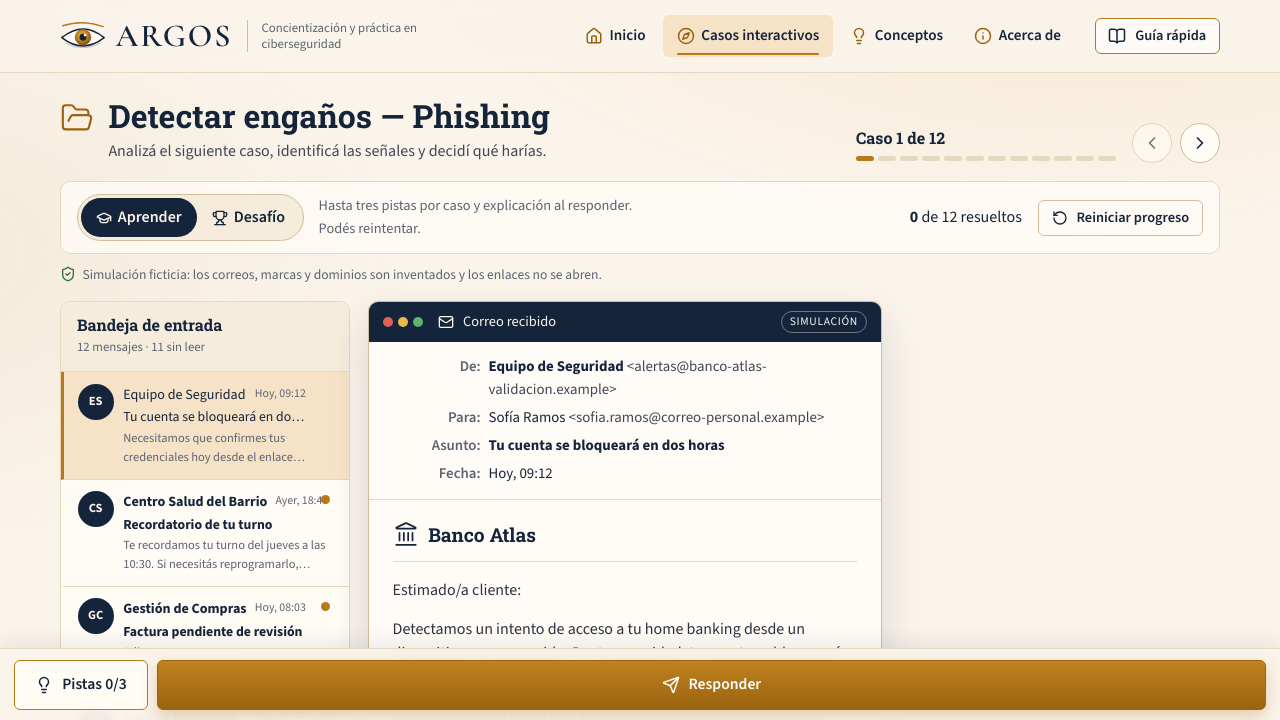
Scenario: simulador en móvil (panel inferior) › respuesta equivocada: devolución constructiva, compacta y con detalles desplegables
Expected: the heading "Detectar engaños — Phishing" is shown, [108,97,550,135]
Step 1. Click the button "Responder" → (711, 685), box [157,660,1266,710]
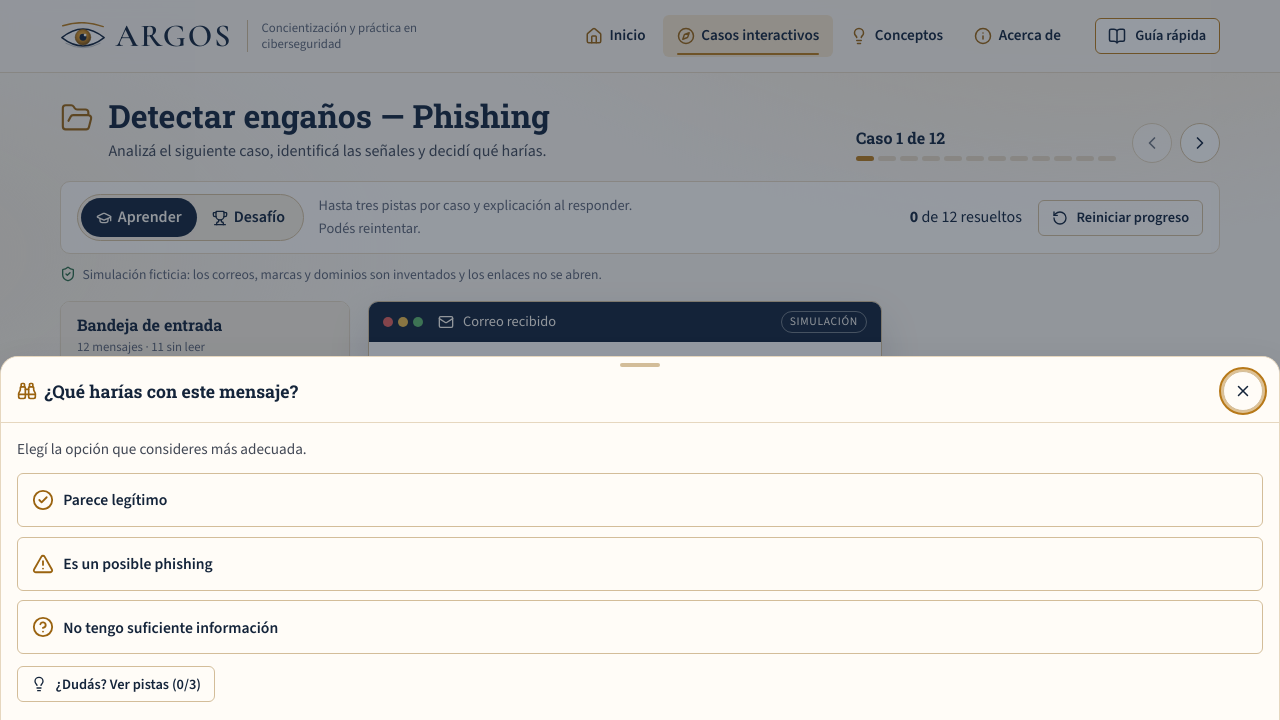
Step 2. Click the button "Parece legítimo" → (115, 500), box [17,473,1263,527]
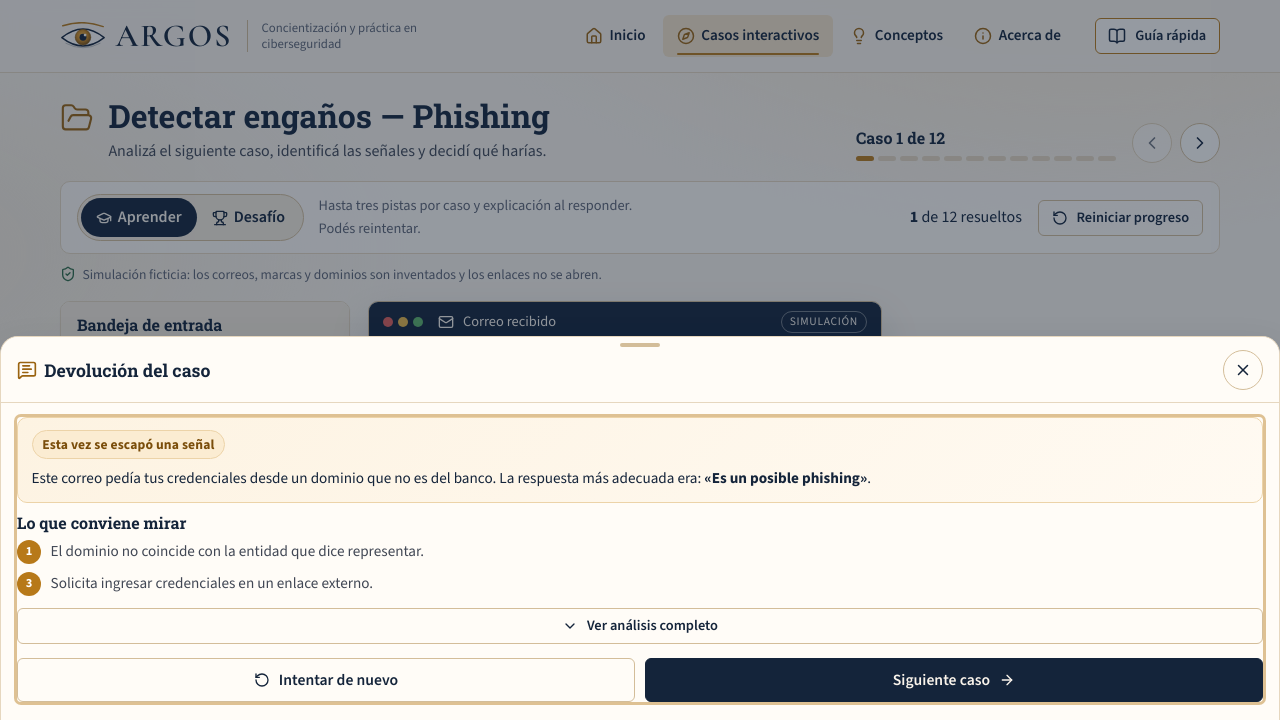
Expected: the text "Esta vez se escapó una señal" is shown, [32,430,225,459]
Expected: the heading "Lo que conviene mirar" is shown, [17,512,186,533]
Expected: the text "pedía tus credenciales desde un dominio que no es del banco" is shown, [32,468,496,488]
Step 3. Click the button "Ver análisis completo" → (640, 626), box [17,608,1263,644]
(page scrolled)
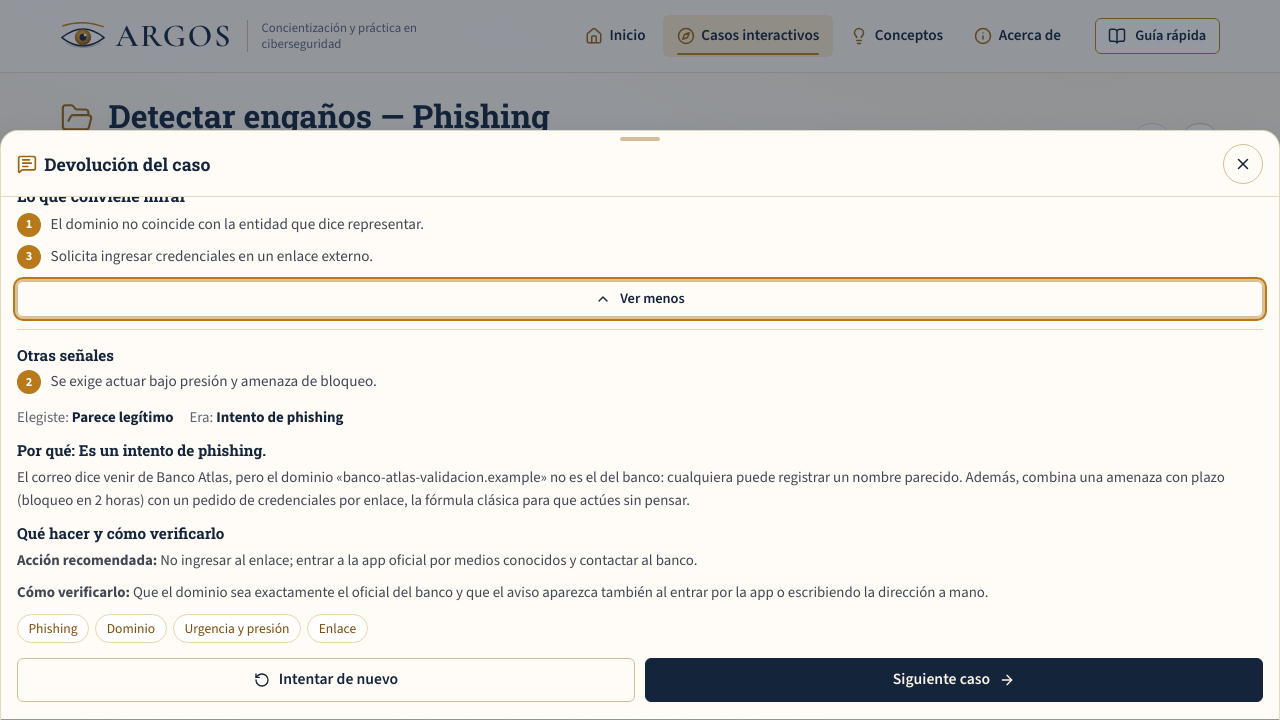
Expected: the button "Ver menos" is expanded, [17,281,1263,317]
Expected: the text "Se exige actuar bajo presión y amenaza de bloqueo." is shown, [51,370,377,394]
Expected: the text "No ingresar al enlace" is shown, [160,550,697,570]
Step 4. Click the button "Intentar de nuevo" → (326, 680), box [17,658,635,702]
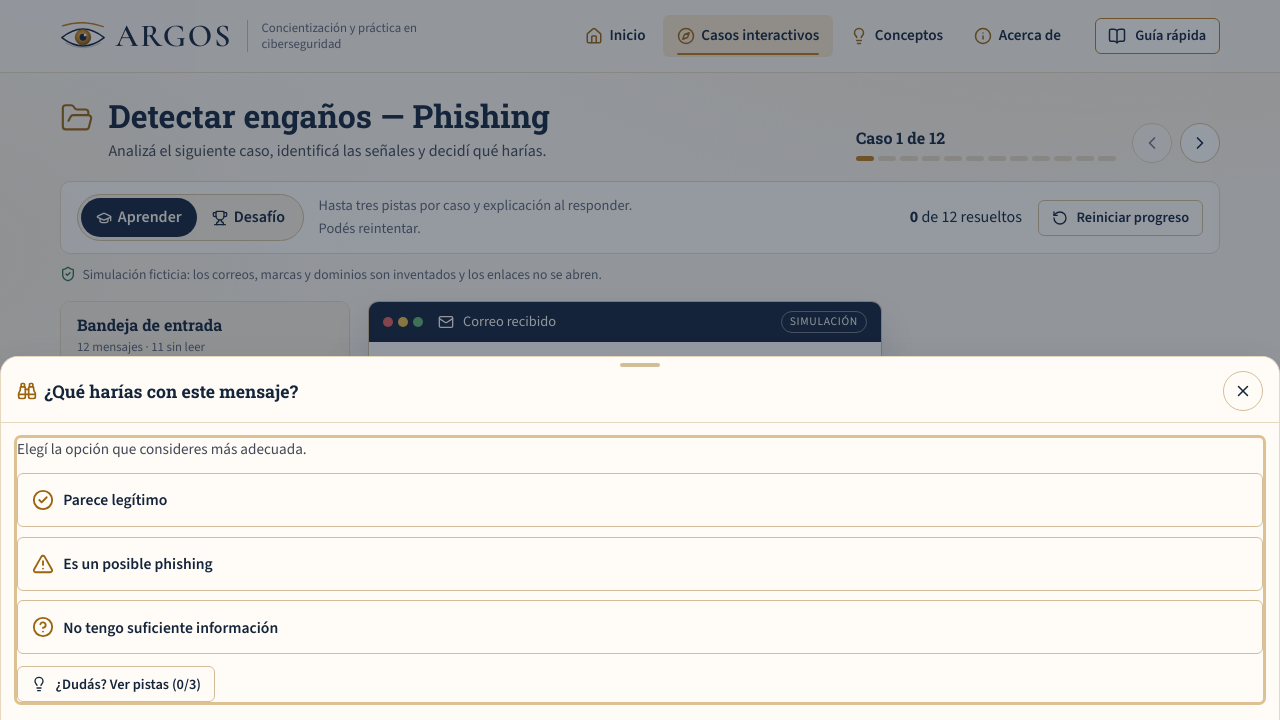
Expected: the dialog "Qué harías" is shown, [0,356,1279,719]
